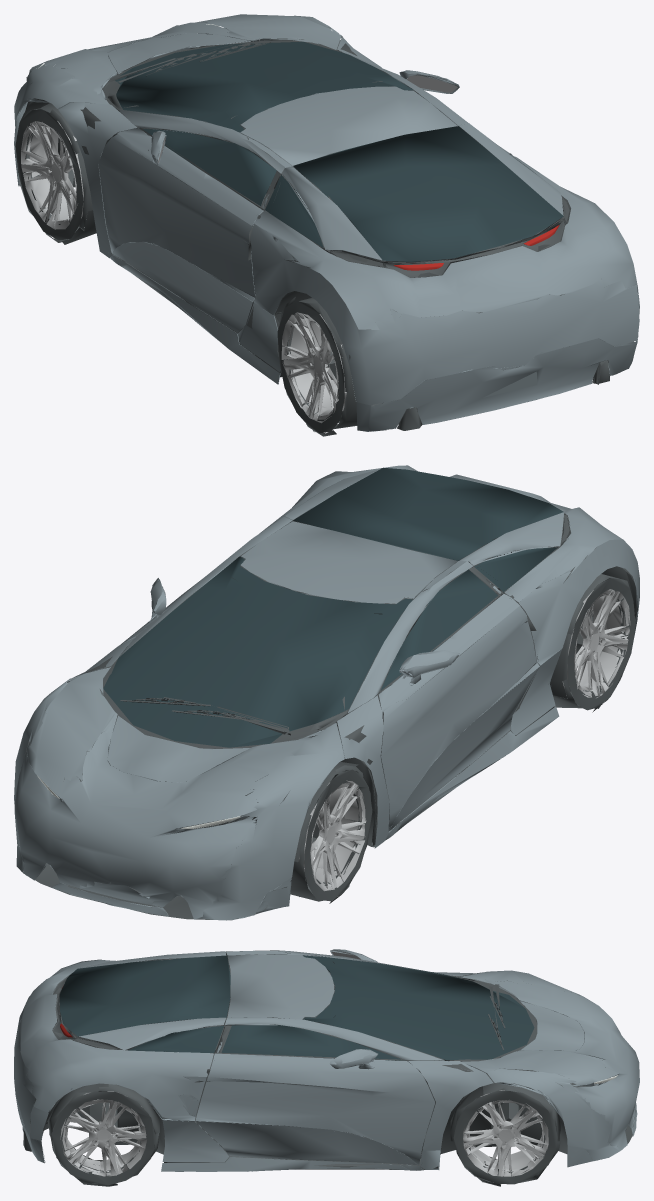
The model's file is crossover-near.glb.
3 views of the same model, one above another, from view 1: azimuth 30°, elevation 25°; view 2: azimuth 150°, elevation 25°; view 3: azimuth 270°, elevation 25° (orthographic). The views are drawn at different scales.
Parts seen in each view (by area): view 1: body, BoardingDoorLeft, WheelFrontL, WheelRearL, BoardingDoorRight; view 2: body, BoardingDoorLeft, WheelRearL, WheelFrontL, BoardingDoorRight; view 3: body, BoardingDoorRight, WheelFrontR, WheelRearR.
Boxes of the visible parts, x1=… form: body: x1=14, y1=14, x2=639, y2=431; BoardingDoorLeft: x1=98, y1=127, x2=280, y2=332; WheelFrontL: x1=15, y1=103, x2=96, y2=244; WheelRearL: x1=277, y1=297, x2=357, y2=436; BoardingDoorRight: x1=399, y1=70, x2=512, y2=155; body: x1=14, y1=465, x2=639, y2=920; BoardingDoorLeft: x1=377, y1=567, x2=539, y2=831; WheelRearL: x1=550, y1=574, x2=635, y2=712; WheelFrontL: x1=284, y1=761, x2=372, y2=903; BoardingDoorRight: x1=120, y1=578, x2=199, y2=644; body: x1=14, y1=950, x2=639, y2=1171; BoardingDoorRight: x1=195, y1=1024, x2=435, y2=1165; WheelFrontR: x1=450, y1=1081, x2=560, y2=1186; WheelRearR: x1=47, y1=1084, x2=160, y2=1186.
Bounding box in the file's own units: 1.8 × 1.12 × 4.2.
